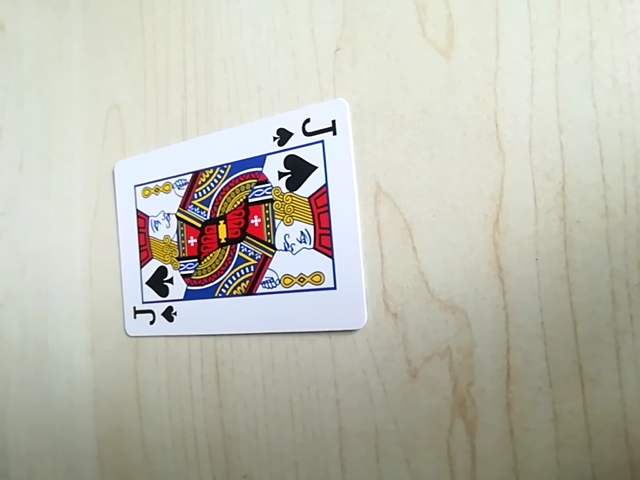ht j: (271, 116, 341, 152), (128, 295, 180, 331)
